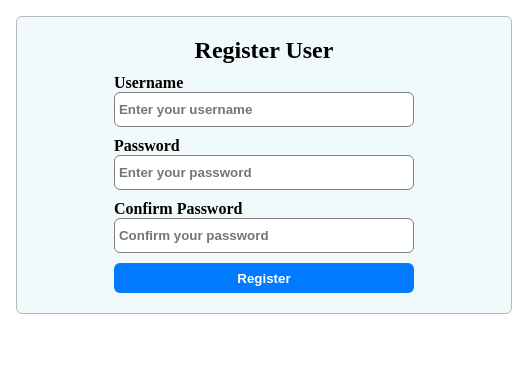
it: RegisterPage › shows an error if passwords do not match
Type "password123" into the password field labelled "Password". click: (264, 172)
box: [114,155,414,190]
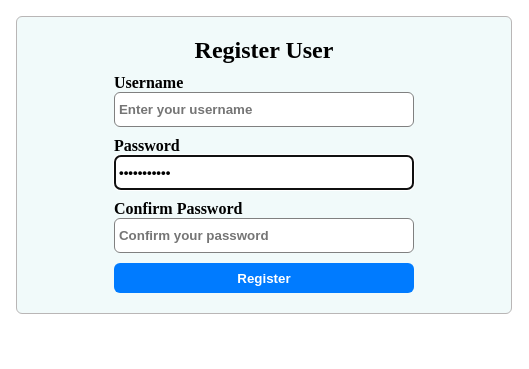
Type "differentPassword" into the password field labelled "Confirm Password". click: (264, 236)
box: [114,218,414,253]
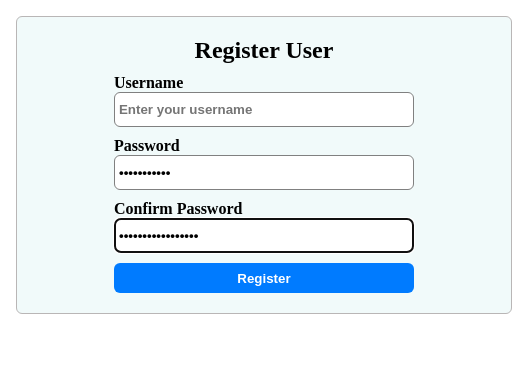
Click the button with aria-label "Submit Registration". click: (264, 278)
box: [114,263,414,293]
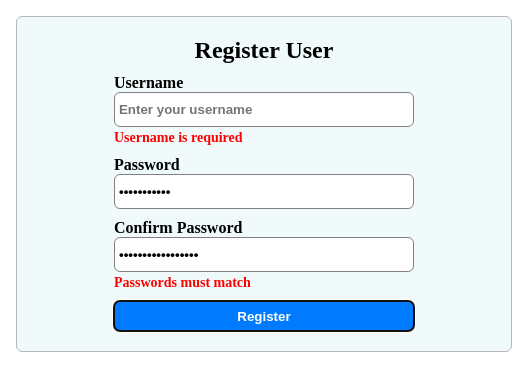
Check: the text "Passwords must match" is shown, box [114,275,251,290]
